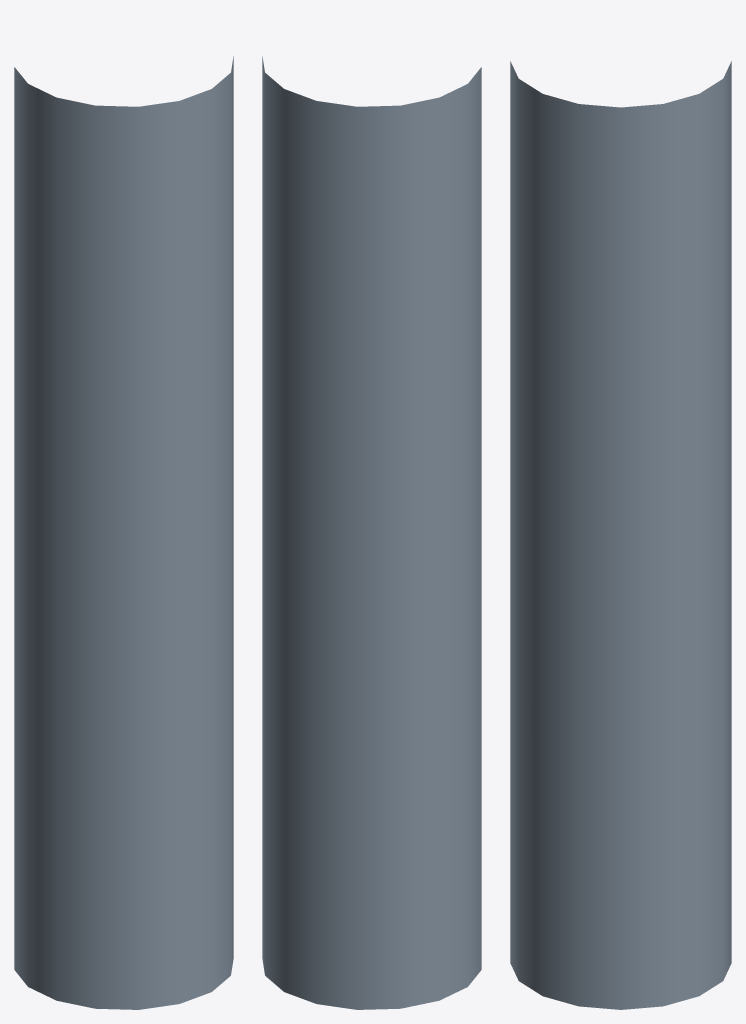
The model's file is Pillar1x4_5Rnd.gltf.
3 renders of one model, left to right at view 1: azimuth 30°, elevation 25°; view 2: azimuth 150°, elevation 25°; view 3: azimuth 270°, elevation 25°, orthographic.
Visible parts, largest first — view 1: Pillar1x4_5RndShape; view 2: Pillar1x4_5RndShape; view 3: Pillar1x4_5RndShape.
Part boxes in pixels (x1,y1,x2,y2): Pillar1x4_5RndShape: [14, 56, 233, 1009]; Pillar1x4_5RndShape: [262, 56, 481, 1009]; Pillar1x4_5RndShape: [510, 61, 731, 1009].
Size of the model in its own units: 100 by 450 by 100.
1 material, 1 textured.
